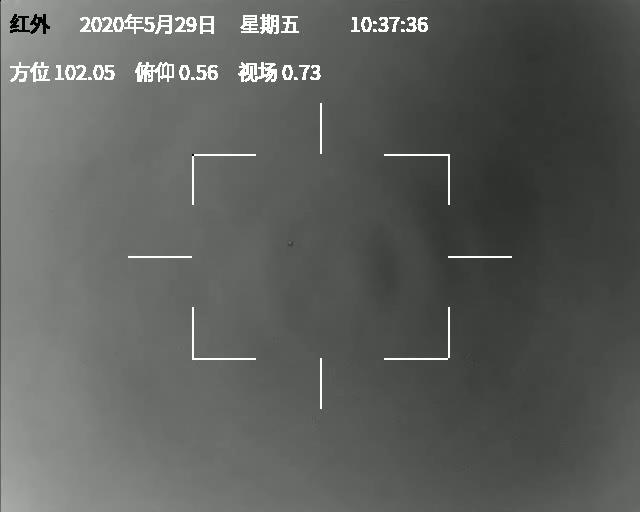uav: (287, 240, 295, 248)
